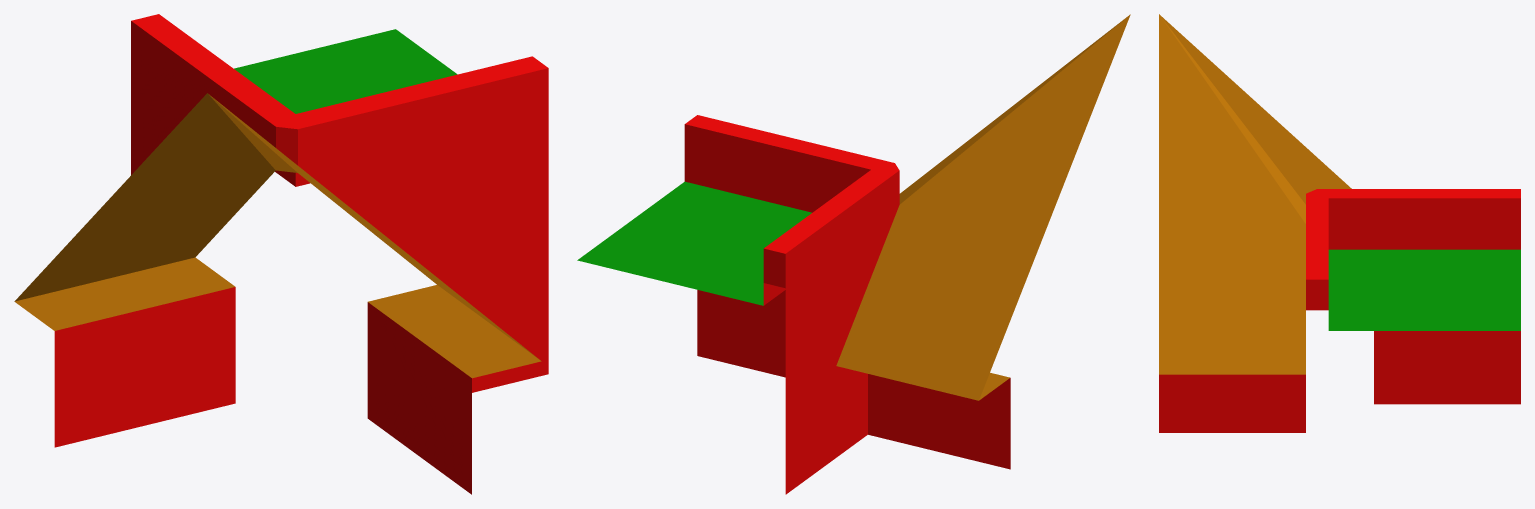
3 views of the same model, side by side, from view 1: azimuth 30°, elevation 25°; view 2: azimuth 150°, elevation 25°; view 3: azimuth 270°, elevation 25° (orthographic). The views are drawn at different scales.
Parts seen in each view (by area): view 1: None_W_E_E_E_E_S_E_E_None; view 2: None_W_E_E_E_E_S_E_E_None; view 3: None_W_E_E_E_E_S_E_E_None.
Boxes of the visible parts, bbox=[...] form: None_W_E_E_E_E_S_E_E_None: bbox=[14, 14, 548, 494]; None_W_E_E_E_E_S_E_E_None: bbox=[577, 14, 1130, 494]; None_W_E_E_E_E_S_E_E_None: bbox=[1159, 14, 1520, 432].
Bounding box in the file's own units: 100 × 100 × 100.
